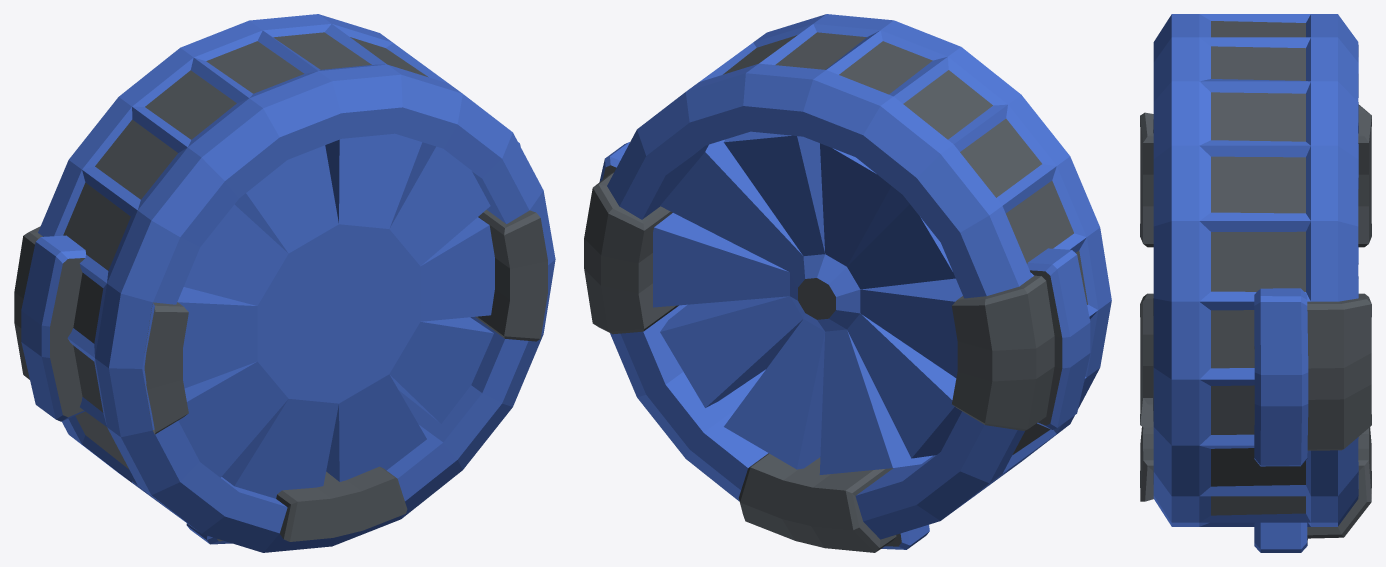
The model's file is Dropship_02_Hover_Blade_Blue.fbx.
3 renders of one model, left to right at view 1: azimuth 30°, elevation 25°; view 2: azimuth 150°, elevation 25°; view 3: azimuth 270°, elevation 25°, orthographic. The views are drawn at different scales.
Visible parts, largest first — view 1: Dropship_02_Hover_Blade_Blue; view 2: Dropship_02_Hover_Blade_Blue; view 3: Dropship_02_Hover_Blade_Blue.
Part boxes in pixels (bbox=[...]): Dropship_02_Hover_Blade_Blue: bbox=[14, 14, 555, 552]; Dropship_02_Hover_Blade_Blue: bbox=[584, 14, 1111, 552]; Dropship_02_Hover_Blade_Blue: bbox=[1140, 14, 1371, 552].
Bounding box in the file's own units: 483 × 459 × 197.
1 material, 1 textured.
